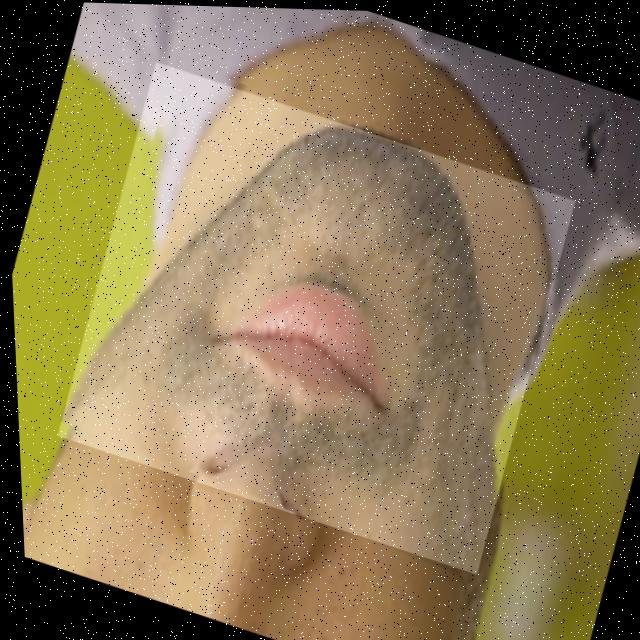beard: (59, 121, 492, 567)
